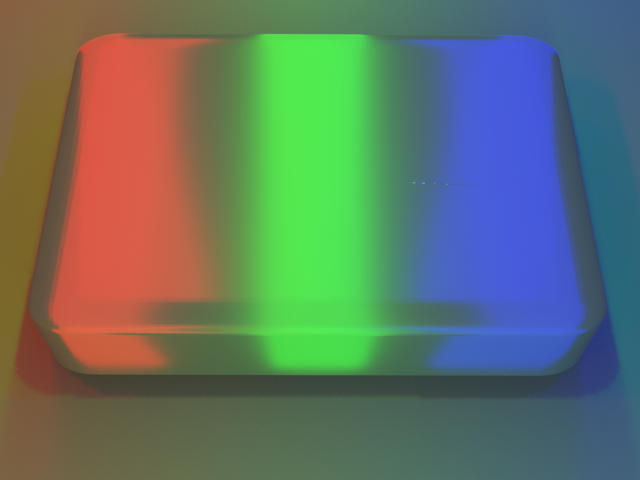scratch: (348, 113, 578, 246)
